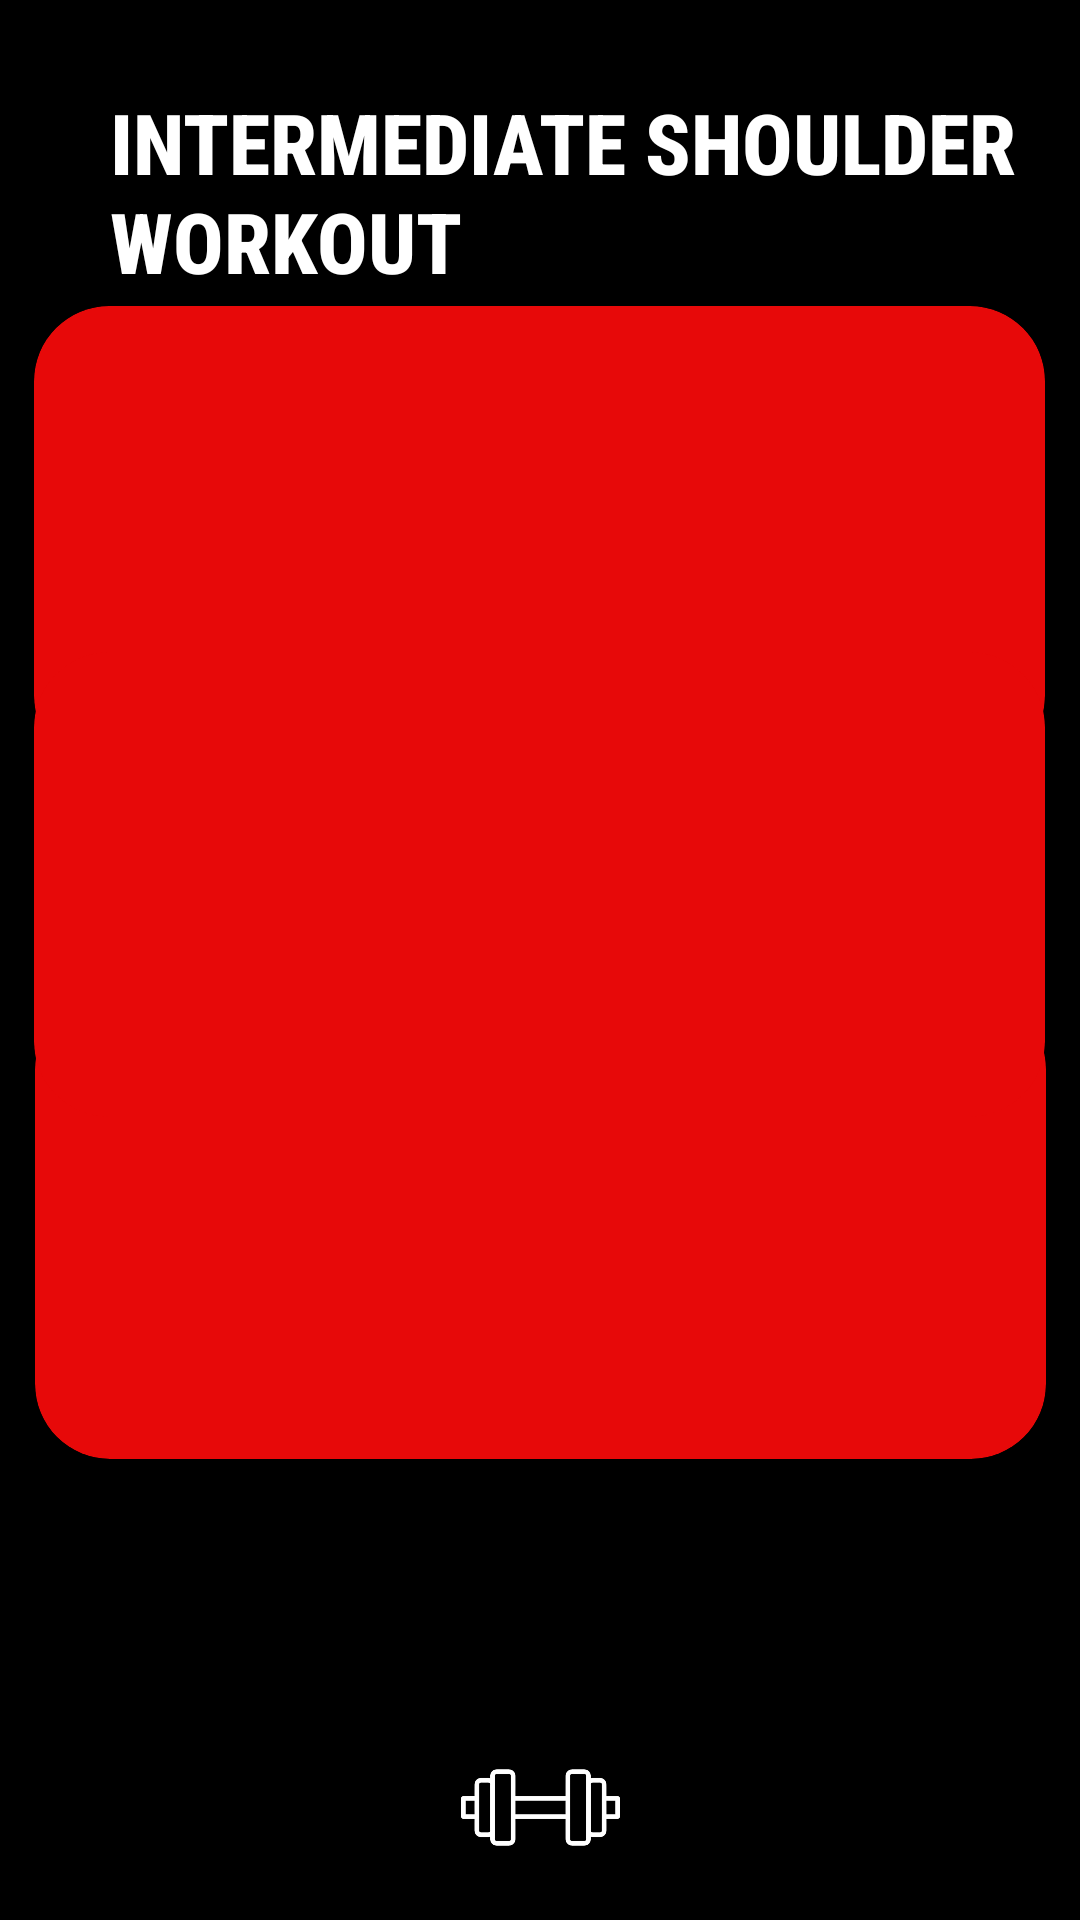

Screen size 1080 × 1920. Icon name, then its box in pixels as (x1,y1,x2,y2):
imgdumbell: (461,1769,620,1846)
